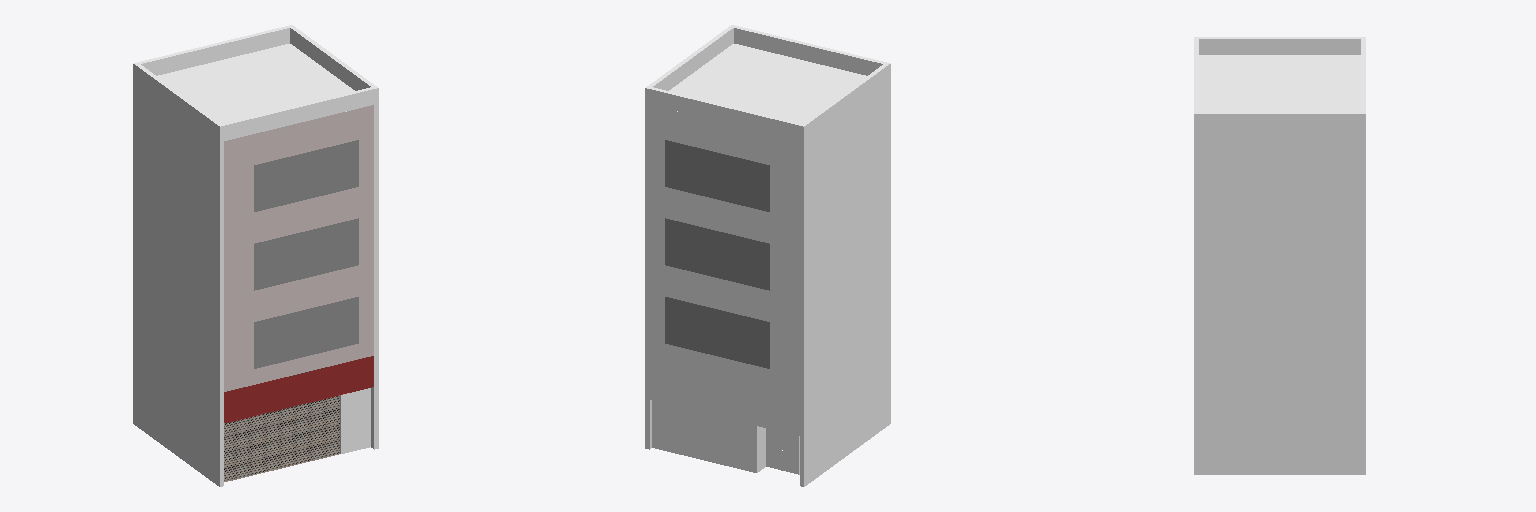
3 views of the same model, side by side, from view 1: azimuth 30°, elevation 25°; view 2: azimuth 150°, elevation 25°; view 3: azimuth 270°, elevation 25° (orthographic).
Visible parts, largest first — view 1: JapaneseShopBuilding01; view 2: JapaneseShopBuilding01; view 3: JapaneseShopBuilding01.
Boxes of the visible parts, box(x1,y1,x2,y2) form: JapaneseShopBuilding01: box(133, 25, 378, 486); JapaneseShopBuilding01: box(645, 25, 890, 486); JapaneseShopBuilding01: box(1194, 37, 1365, 474).
Bounding box in the file's own units: 10.6 × 23 × 10.
9 materials, 1 textured.